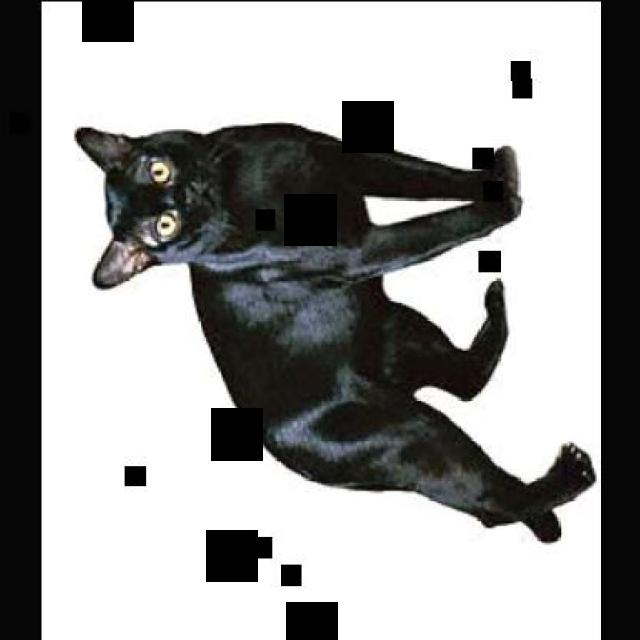unauthorized: (74, 120, 595, 543)
